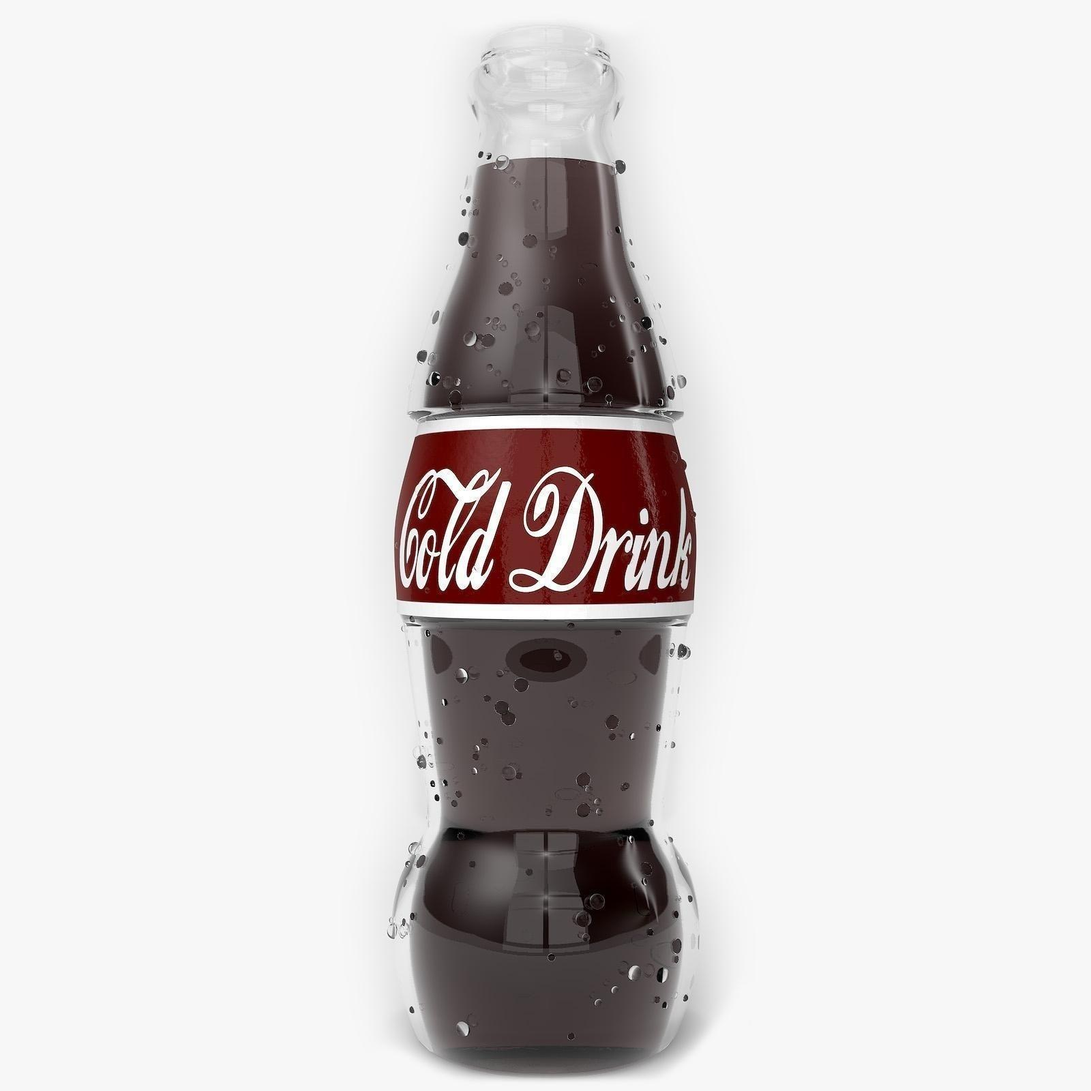bottle-glass: (391, 0, 717, 1064)
